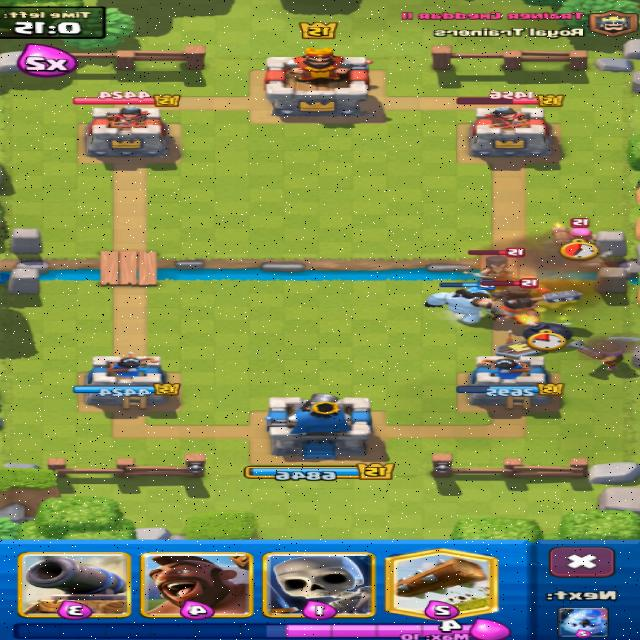Enemy-Bomb: (523, 322, 573, 352)
Enemy-DarkPrince: (481, 278, 582, 325)
Enemy-Firecracker: (552, 218, 593, 245)
Enemy-KingTower: (266, 48, 371, 117)
Enemy-NightWitch: (465, 248, 525, 279)
Enemy-PrincessTower: (86, 105, 172, 162), (470, 107, 553, 160)
Player-IceGolem: (426, 289, 490, 322)
Player-KingTower-Activated: (267, 393, 372, 459)
Player-Musketeer: (569, 340, 623, 370)
Player-PrincessTower: (74, 353, 180, 408), (457, 356, 564, 409)
